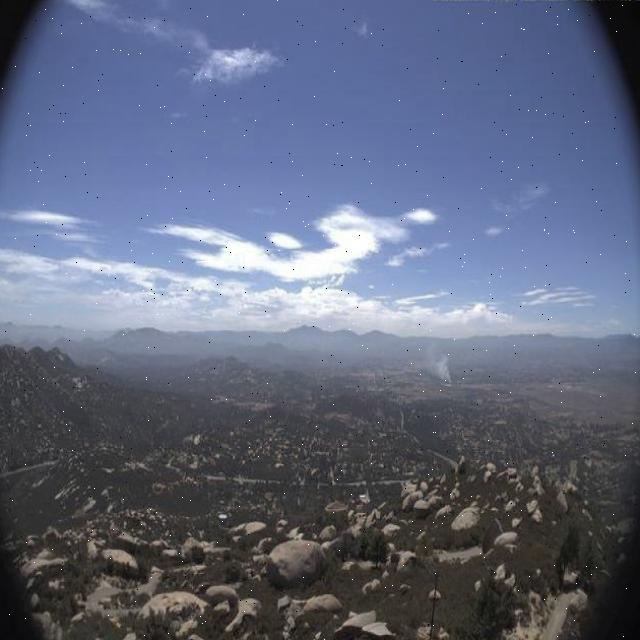smoke: (417, 338, 452, 386)
